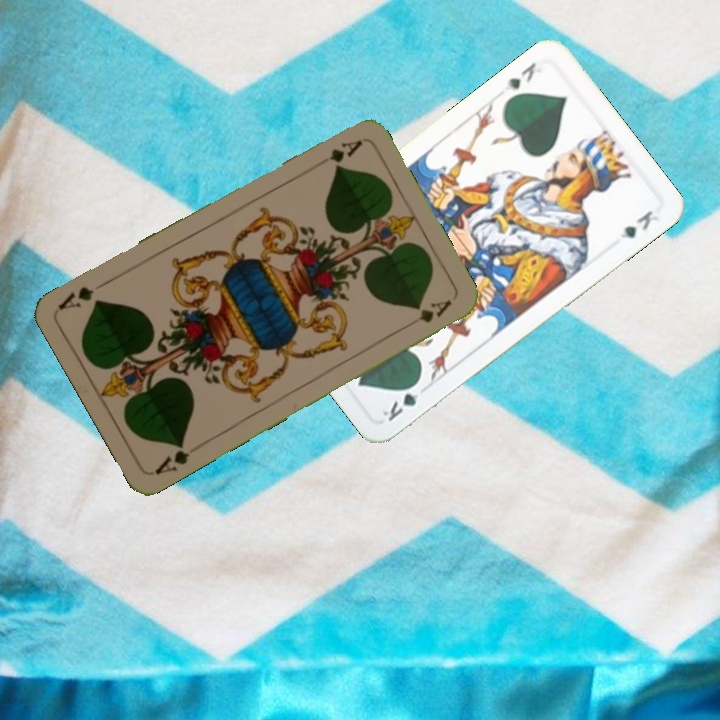GA: (150, 438, 193, 478), (325, 136, 365, 166)
GK: (378, 376, 424, 425), (501, 58, 539, 94)
